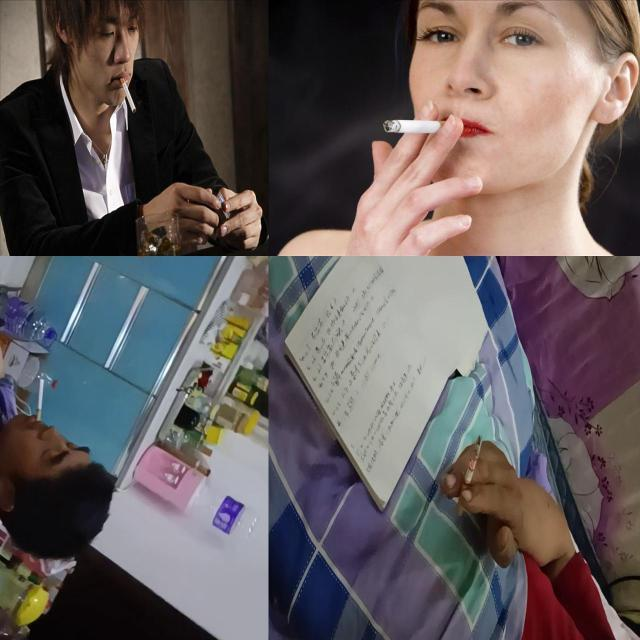smoking: (455, 435, 483, 517), (383, 118, 453, 134), (120, 78, 136, 114), (36, 378, 46, 422)
